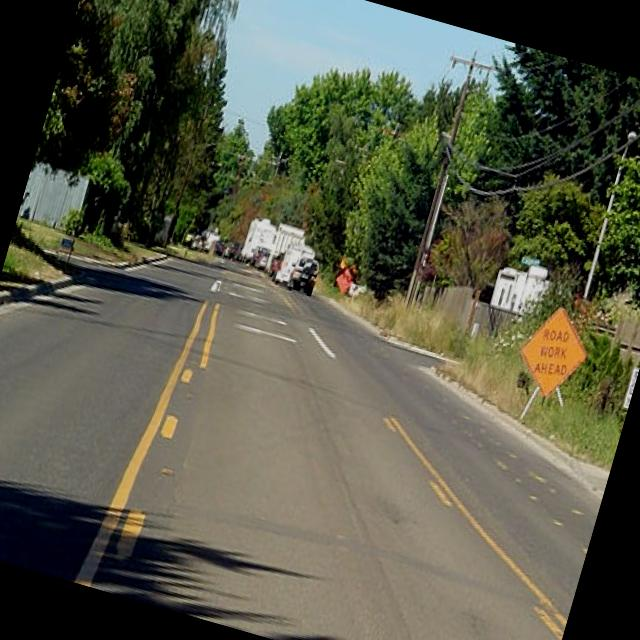Vehicle: (269, 236, 325, 297), (264, 222, 307, 278), (286, 253, 322, 296), (266, 250, 286, 284), (248, 245, 270, 269)
